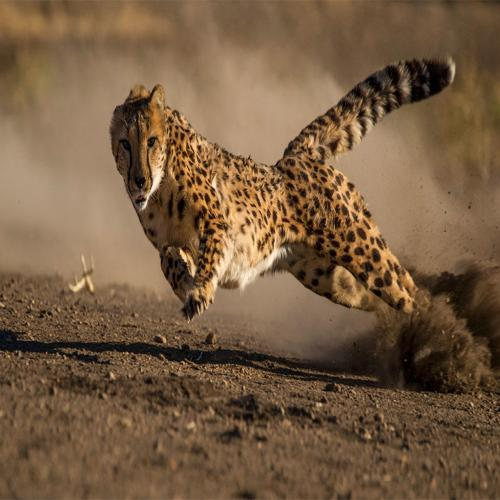cheetah-endangered: (108, 51, 457, 330)
